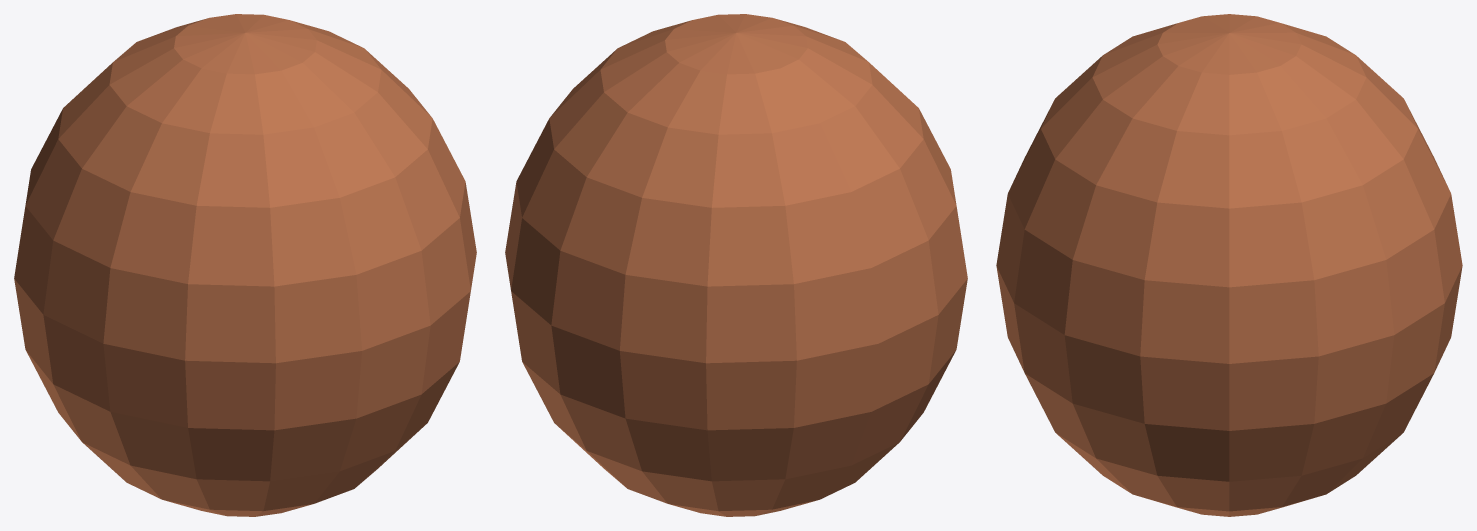
File: prop_jar_5.glb
3 views of the same model, side by side, from view 1: azimuth 30°, elevation 25°; view 2: azimuth 150°, elevation 25°; view 3: azimuth 270°, elevation 25° (orthographic).
Visible parts, largest first — view 1: PROP_Jar_5; view 2: PROP_Jar_5; view 3: PROP_Jar_5.
Boxes of the visible parts, bbox=[...] form: PROP_Jar_5: bbox=[14, 14, 476, 516]; PROP_Jar_5: bbox=[505, 14, 967, 516]; PROP_Jar_5: bbox=[996, 14, 1462, 516].
Bounding box in the file's own units: 0.5 × 0.55 × 0.5.
